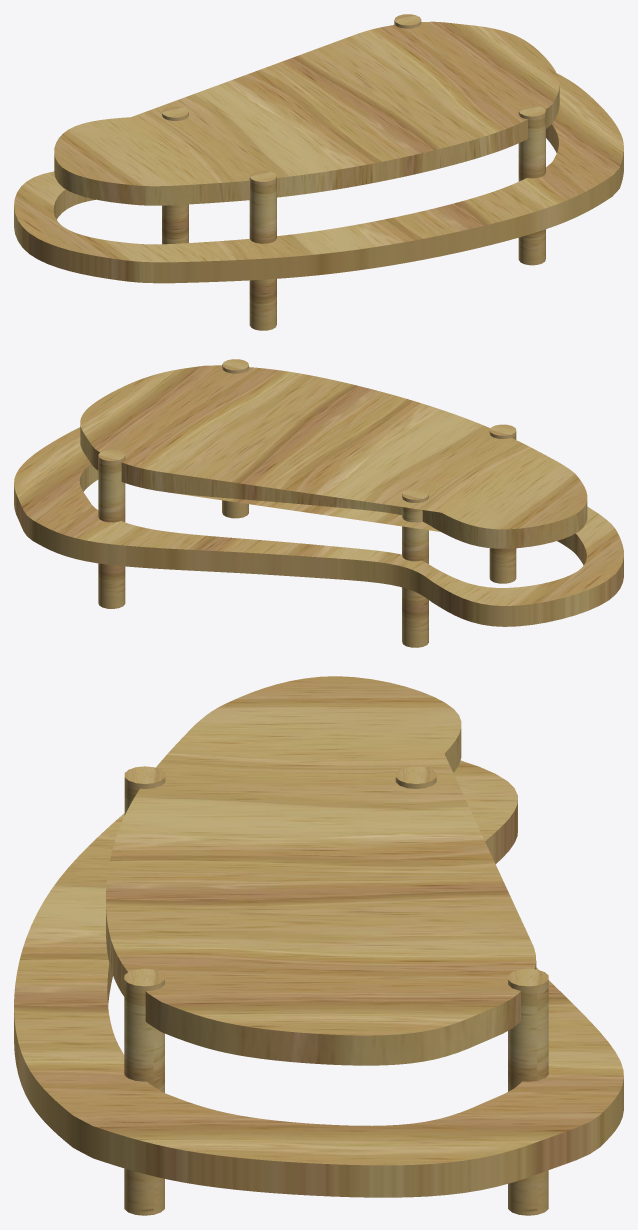
File: tablewithcolor.fbx
3 views of the same model, one above another, from view 1: azimuth 30°, elevation 25°; view 2: azimuth 150°, elevation 25°; view 3: azimuth 270°, elevation 25° (orthographic). The views are drawn at different scales.
Visible parts, largest first — view 1: pPlane1, pPlane4, polySurface4, polySurface2, polySurface3; view 2: pPlane1, pPlane4, polySurface1, polySurface3, polySurface4, polySurface2; view 3: pPlane1, pPlane4, polySurface1, polySurface2, polySurface4, polySurface3.
Part boxes in pixels (x1,y1,x2,y2): pPlane1: (54,21,559,205); pPlane4: (14,73,623,283); polySurface4: (249,170,276,330); polySurface2: (518,105,545,265); polySurface3: (162,106,188,244); pPlane1: (80,365,587,548); pPlane4: (14,427,623,626); polySurface1: (98,449,125,608); polySurface3: (402,488,428,647); polySurface4: (489,424,516,583); polySurface2: (222,359,248,518); pPlane1: (106,676,536,1065); pPlane4: (14,760,623,1197); polySurface1: (508,968,548,1215); polySurface2: (124,968,164,1215); polySurface4: (124,766,165,815); polySurface3: (395,766,436,788).
Bounding box in the file's own units: 19.9 × 5.03 × 12.12.
Materials: 1 (1 with a texture image).
